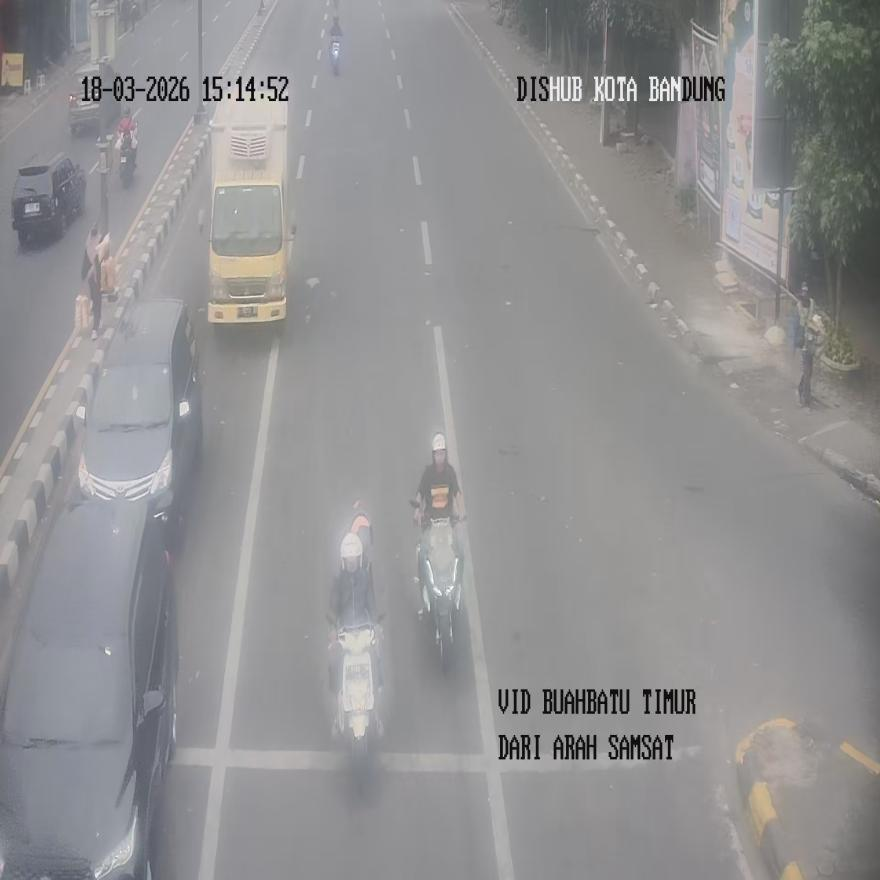Mobil: (0, 494, 179, 877), (76, 298, 202, 543), (11, 151, 86, 244)
Truk ringan: (203, 88, 295, 322)
